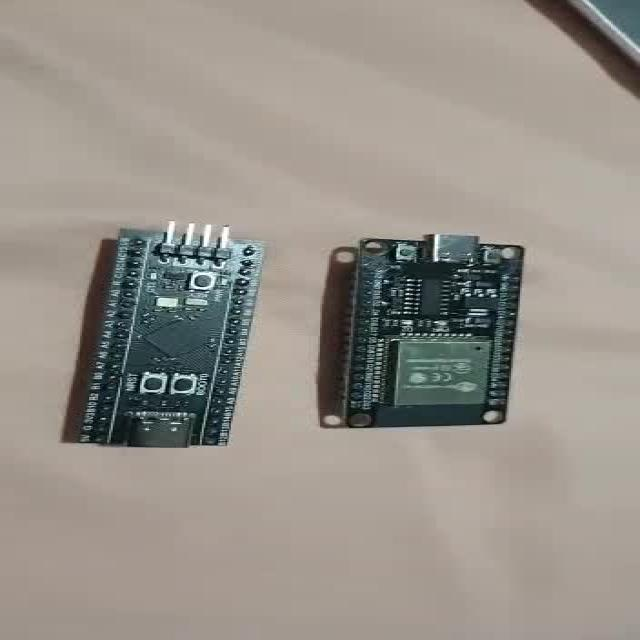ESP32: (341, 235, 524, 428)
STM32: (73, 223, 263, 448)
